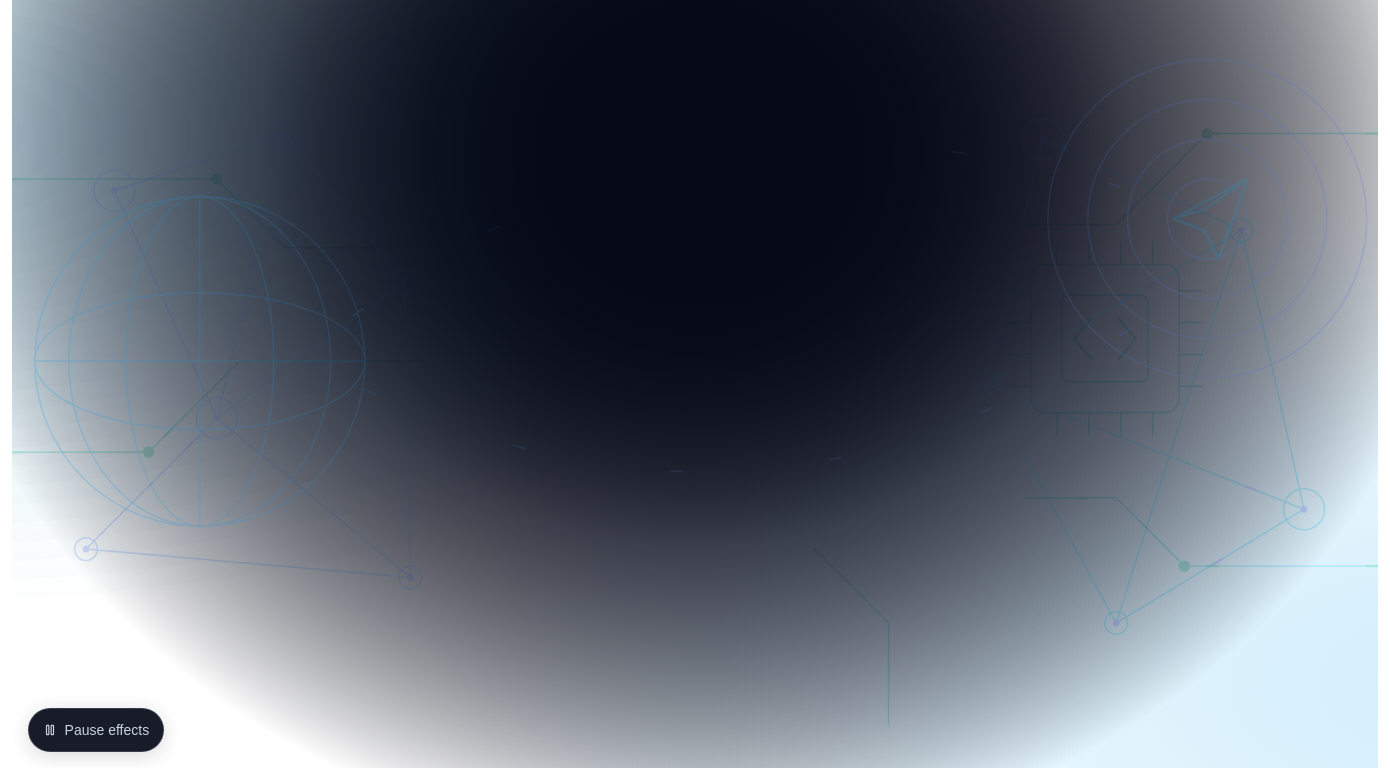
Test: section background motion › pauses and resumes every section with one control
Click the button with aria-label "Pause background animations". click: (96, 730)
box: [28,708,164,752]
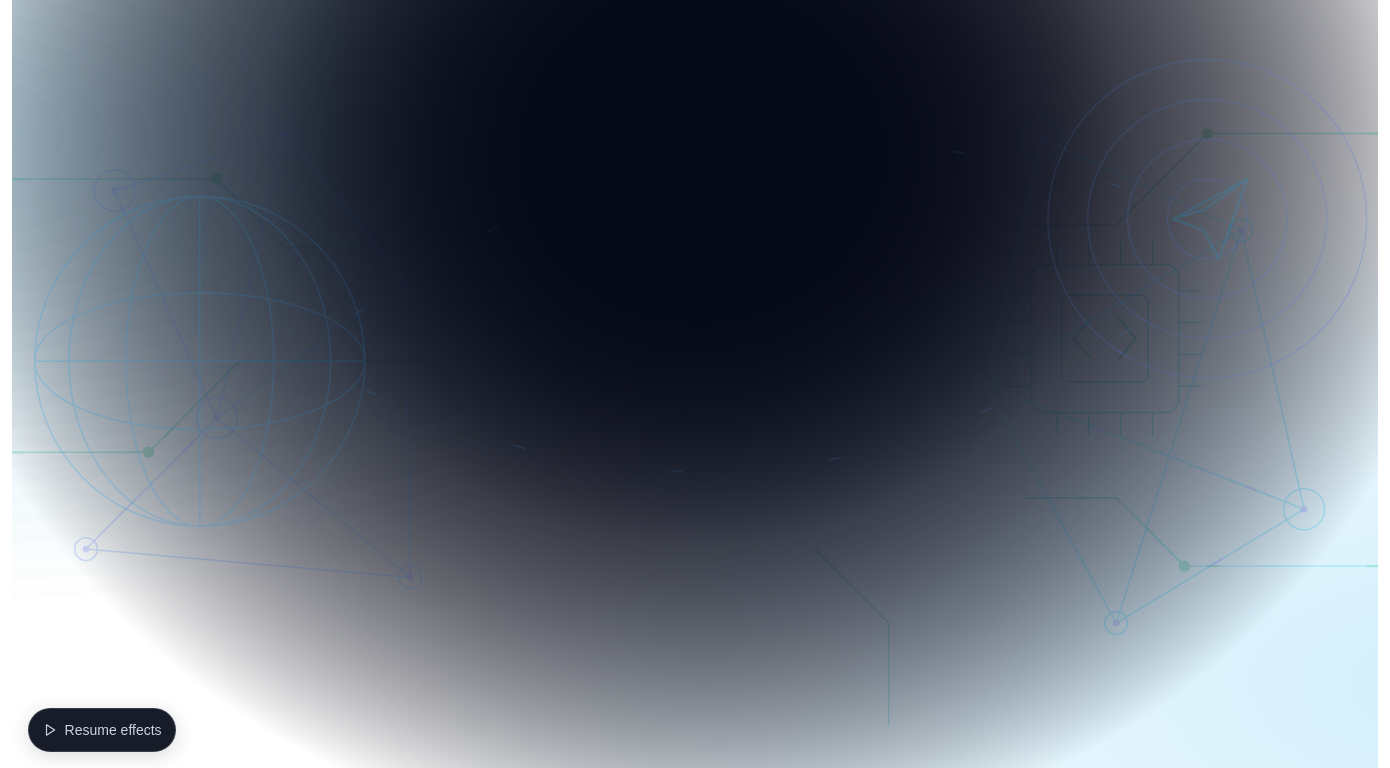
Expected: the 3rd element with class "tech-background" has attribute data-running="false"
Expected: the 4th element with class "tech-background" has attribute data-running="false"
Expected: the 5th element with class "tech-background" has attribute data-running="false"
Click the button with aria-label "Resume background animations". click: (102, 730)
box: [28,708,176,752]
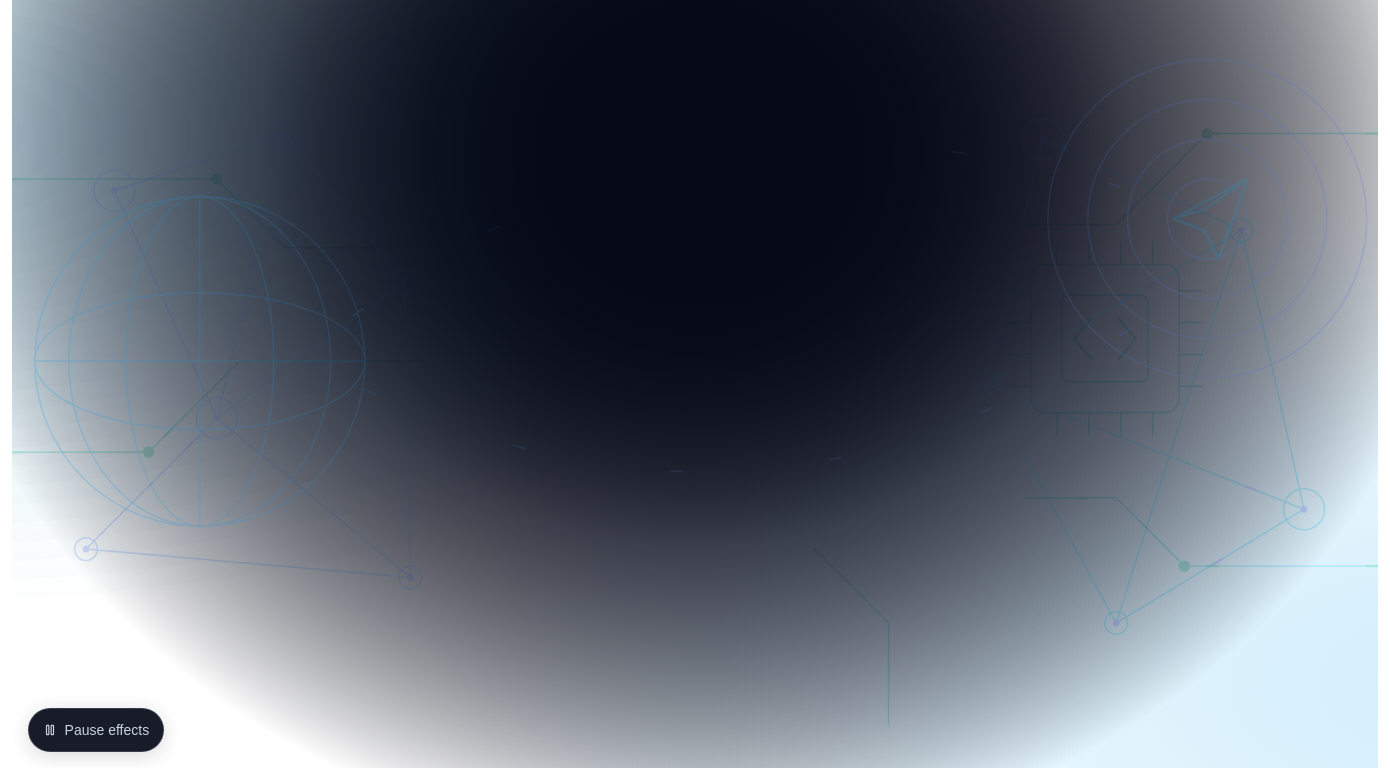
Expected: the 3rd element with class "tech-background" has attribute data-running="true"
Expected: the 4th element with class "tech-background" has attribute data-running="true"
Expected: the 5th element with class "tech-background" has attribute data-running="true"
